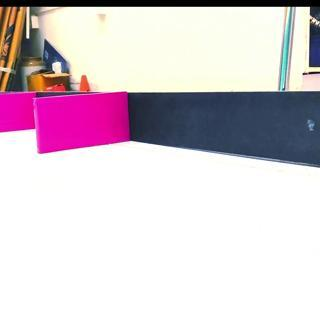xparking: (41, 96, 129, 146), (1, 90, 29, 130)
